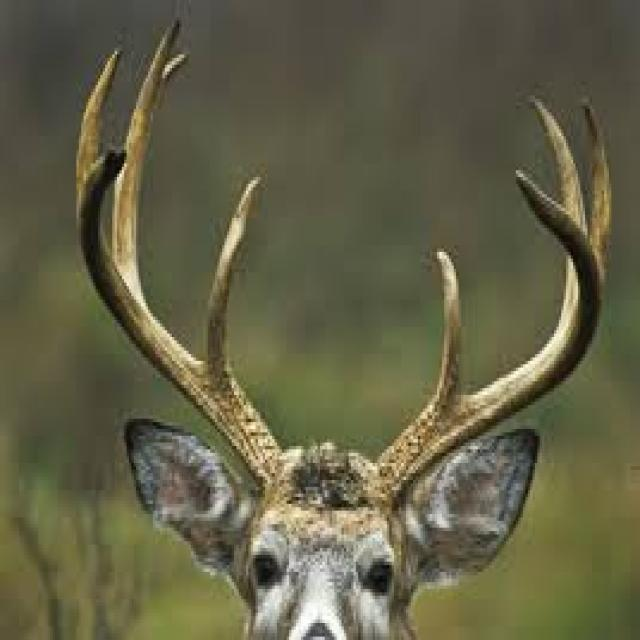deer: (76, 24, 609, 637)
